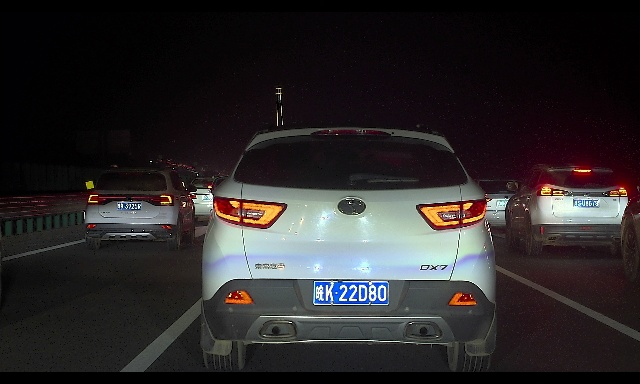car: (200, 127, 497, 372), (504, 163, 632, 257), (83, 167, 197, 250), (477, 179, 528, 230), (183, 176, 236, 224), (620, 184, 640, 285)
